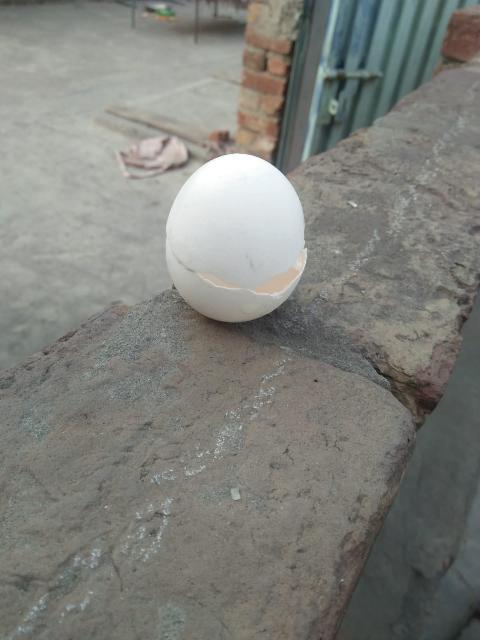Roto: (164, 152, 308, 323)
